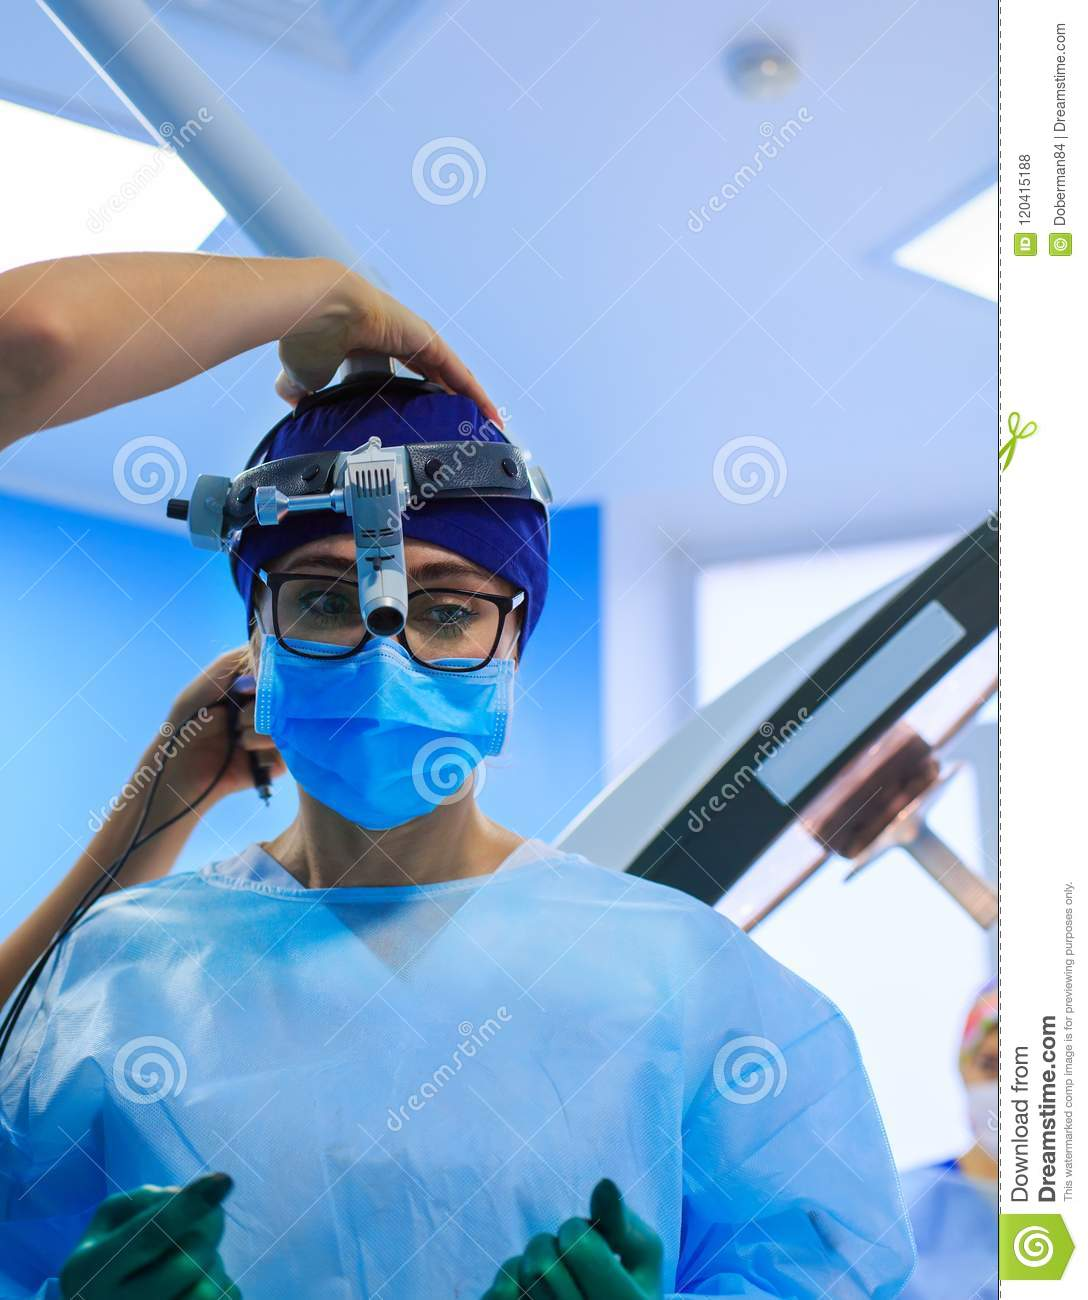mask: (266, 641, 534, 839)
